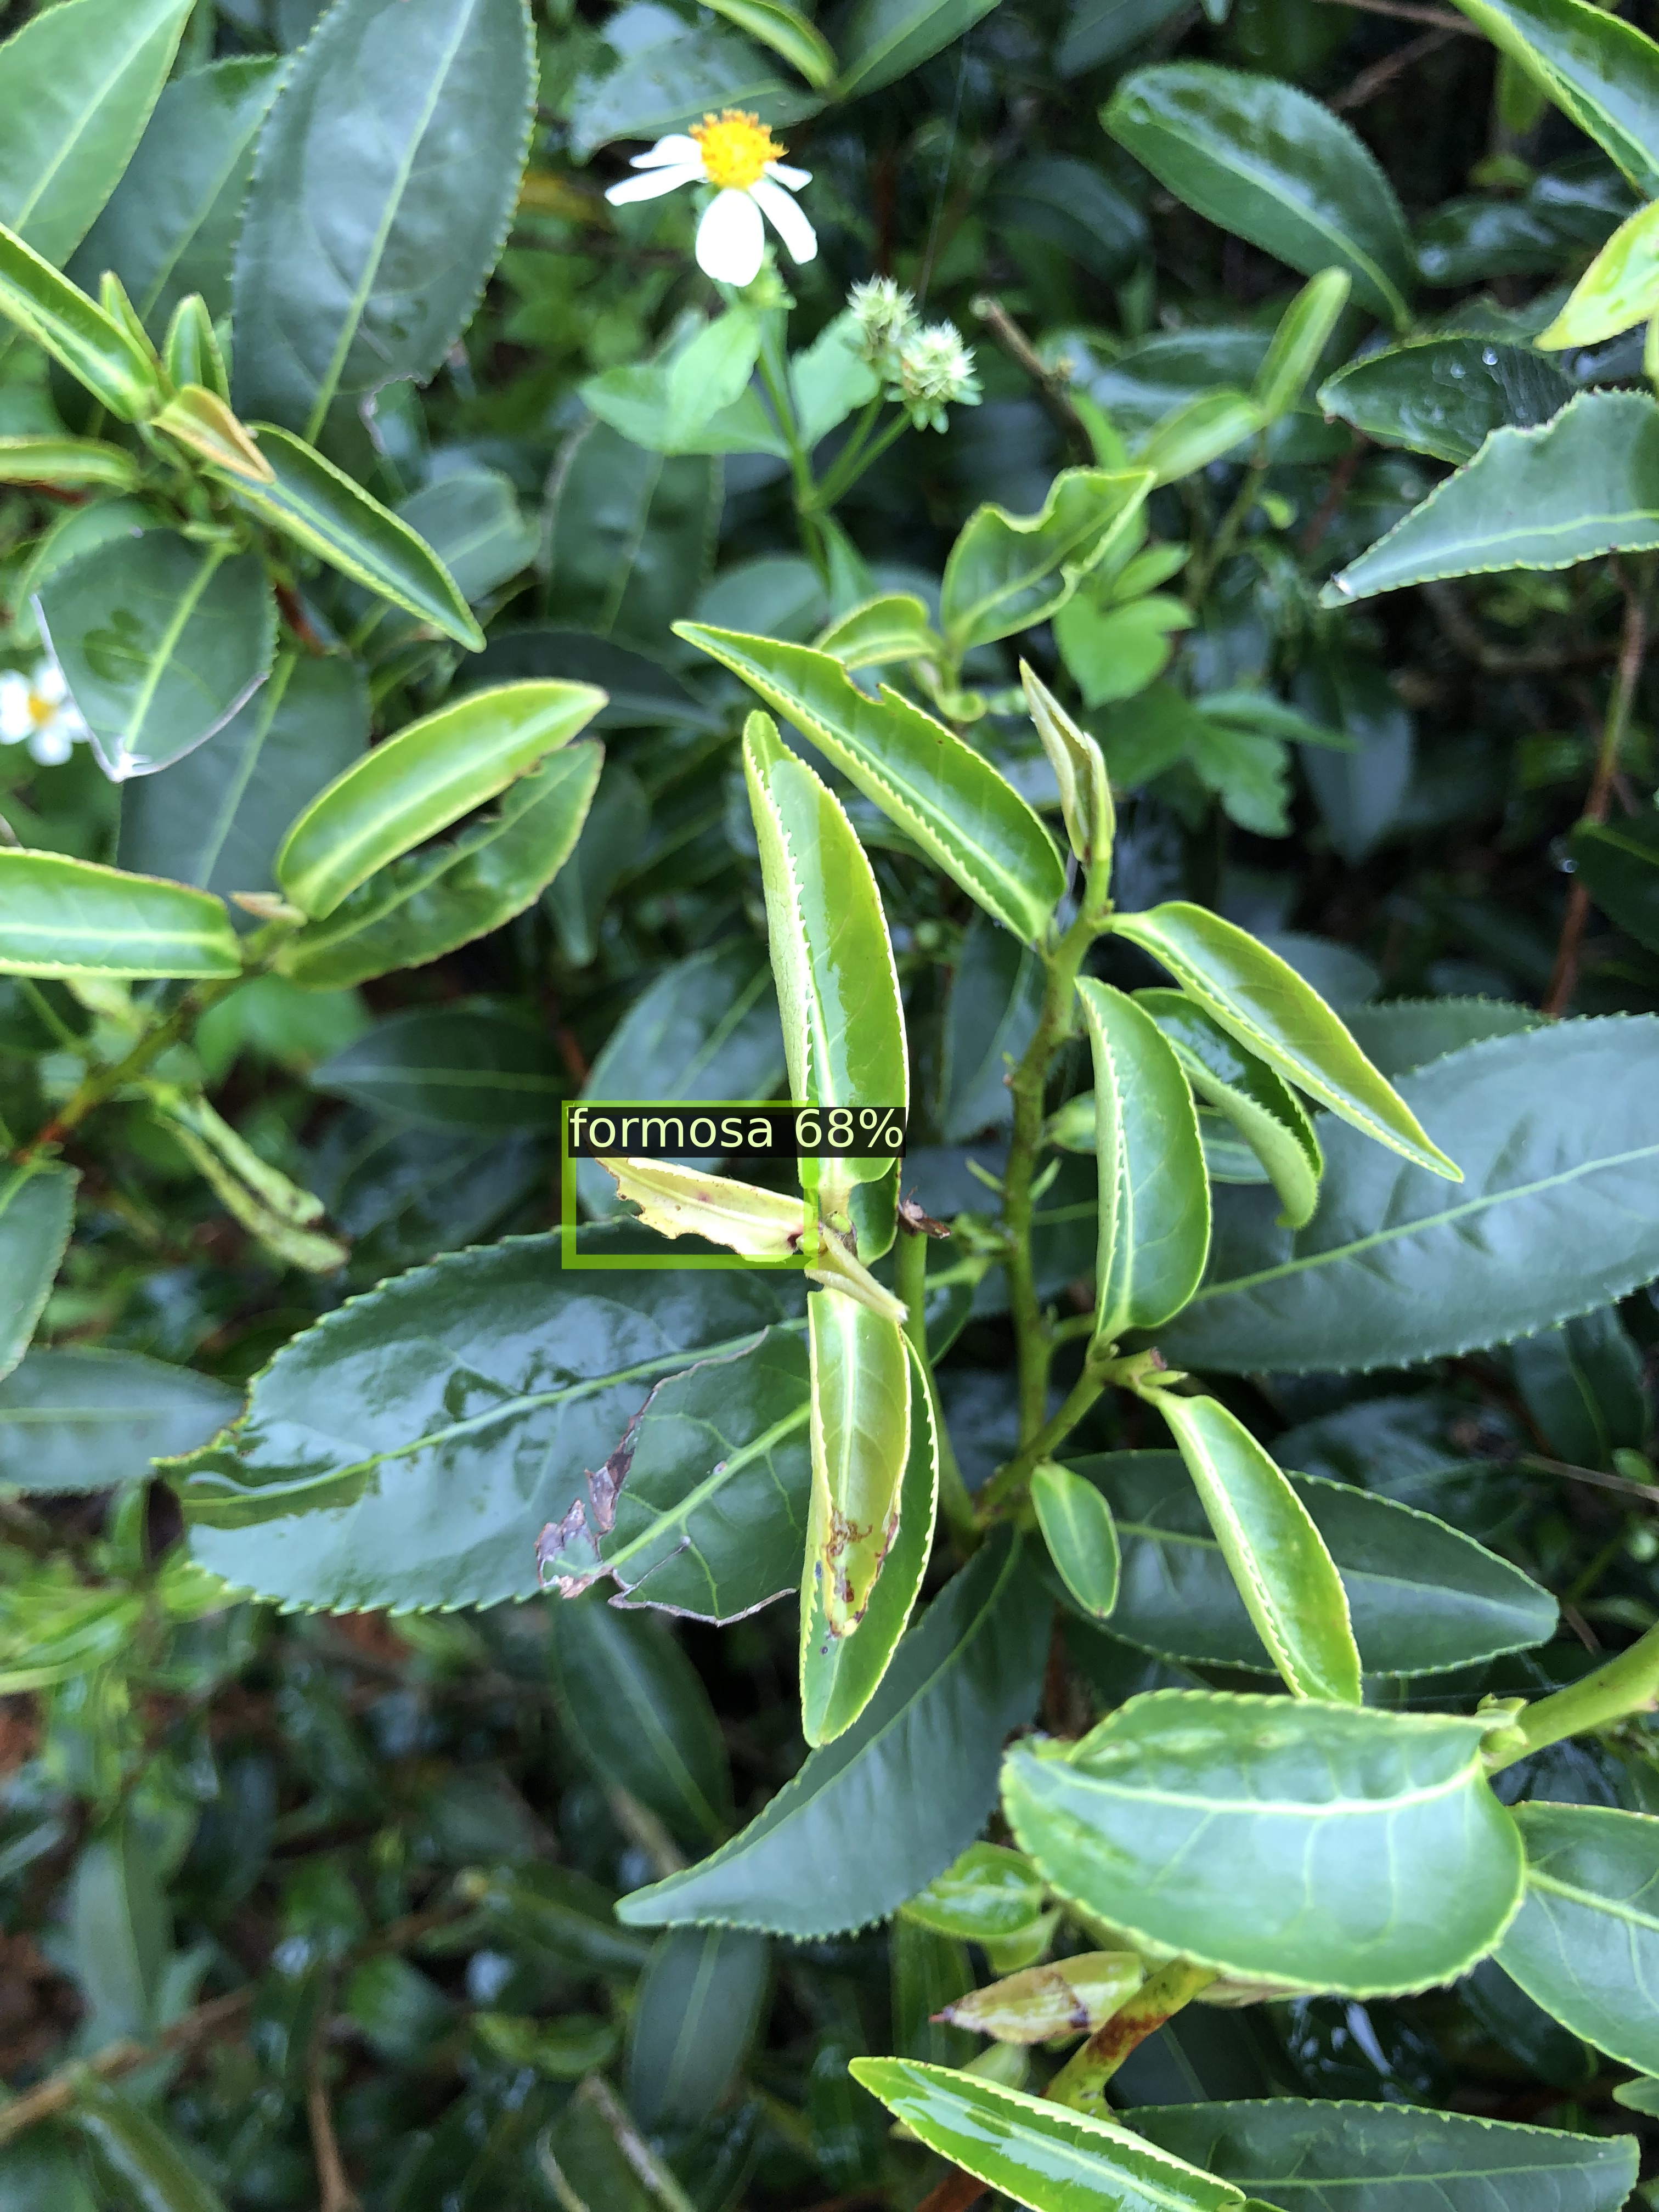formosa: (568, 1108, 810, 1261)
